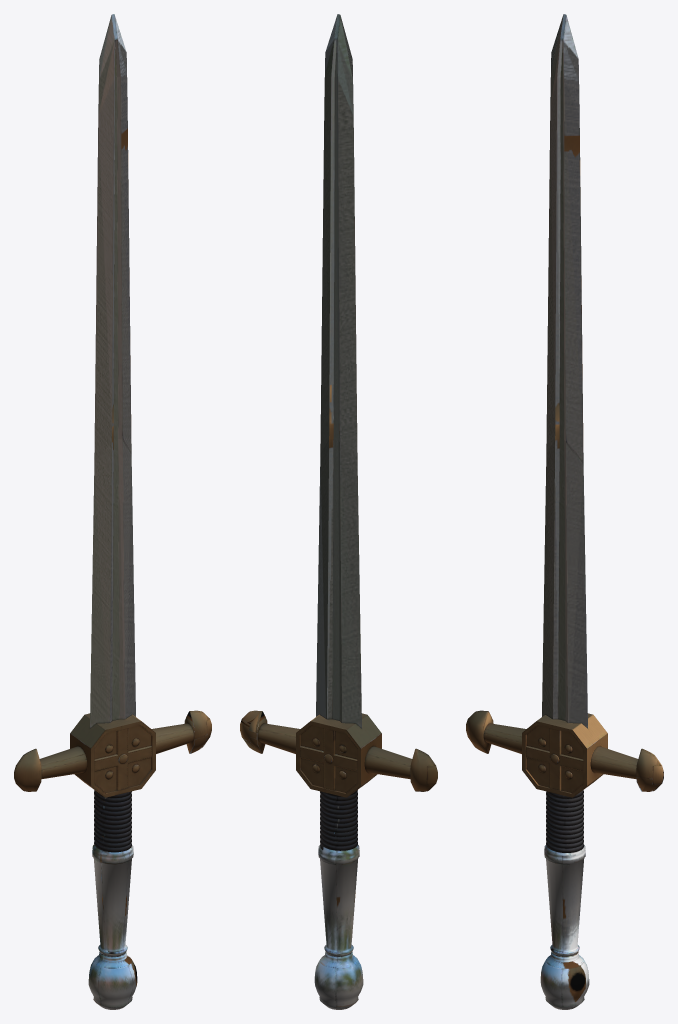
Rendered from wardensword.obj.
3 views of the same model, side by side, from view 1: azimuth 30°, elevation 25°; view 2: azimuth 150°, elevation 25°; view 3: azimuth 330°, elevation 25° (orthographic).
Parts seen in each view (by area): view 1: Plane; view 2: Plane; view 3: Plane.
Boxes of the visible parts, x1,y1,x2,y2 form: Plane: (14,14,211,1009); Plane: (240,14,437,1009); Plane: (466,14,663,1009).
Bounding box in the file's own units: 0.5199 × 2.51 × 0.1123.
